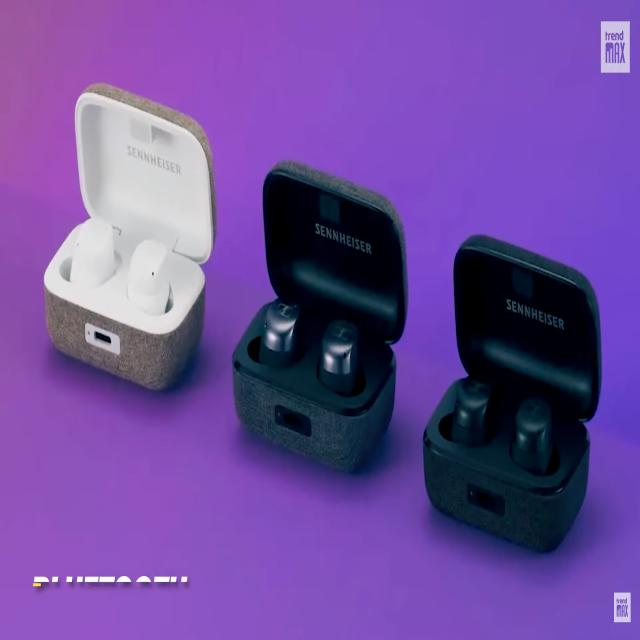airpods: (420, 227, 605, 559), (230, 157, 410, 482), (42, 77, 220, 397)
